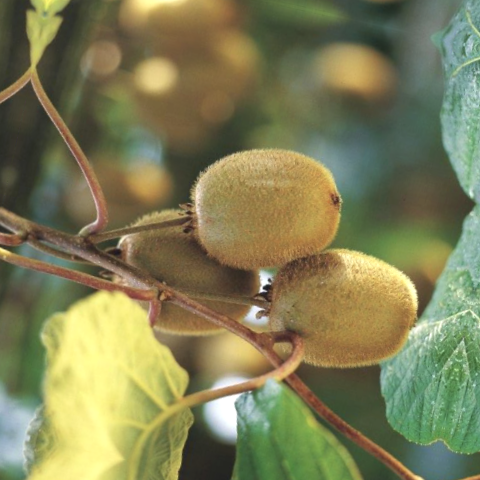kiwi: (239, 212, 435, 396), (95, 186, 286, 352), (173, 121, 356, 292)
